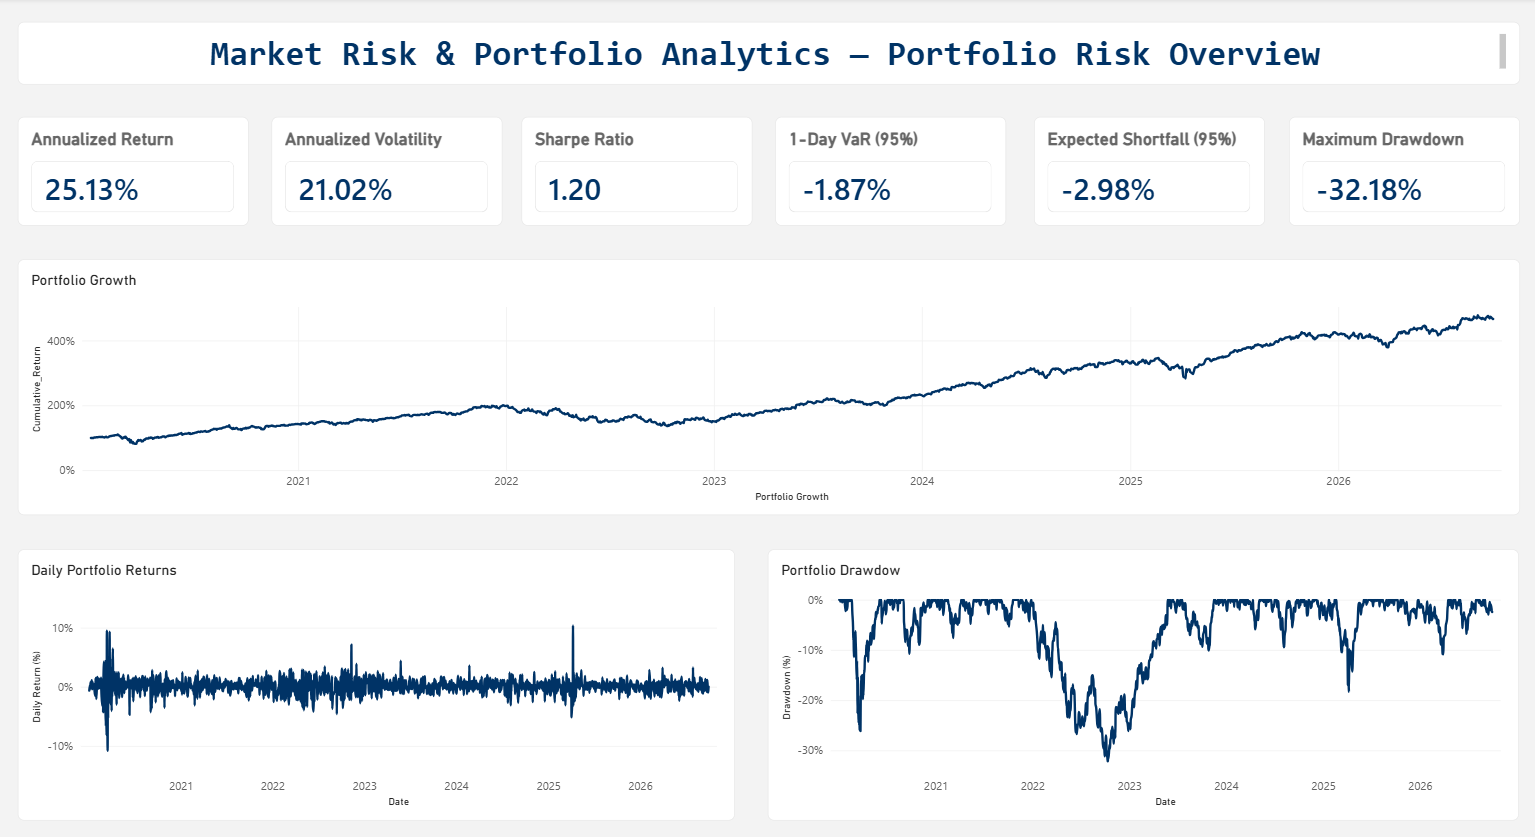

Layout of this report page (visuals, bound fields, positions):
{"tool":"powerbi","page":{"name":"Portfolio Risk Overview","canvas":[1920,1080],"ordinal":0},"visuals":[{"type":"cardVisual","title":"Annualized Return","fields":{"Data":["Sum(powerbi_risk_metrics.Value)"]},"box":[22.7,148.3,287.8,136],"z":0},{"type":"cardVisual","title":"Annualized Volatility","fields":{"Data":["Sum(powerbi_risk_metrics.Value)"]},"box":[340.1,148.3,287.8,136],"z":1000},{"type":"cardVisual","title":"Sharpe Ratio","fields":{"Data":["Sum(powerbi_risk_metrics.Value)"]},"box":[652.3,148.3,287.8,136],"z":2000},{"type":"cardVisual","title":"1-Day VaR (95%)","fields":{"Data":["Sum(powerbi_risk_metrics.Value)"]},"box":[968,148.3,287.8,136],"z":3000},{"type":"cardVisual","title":"Expected Shortfall (95%)","fields":{"Data":["Sum(powerbi_risk_metrics.Value)"]},"box":[1290.7,148.3,287.8,136],"z":4000},{"type":"cardVisual","title":"Maximum Drawdown","fields":{"Data":["Sum(powerbi_risk_metrics.Value)"]},"box":[1608.1,148.3,287.8,136],"z":5000},{"type":"lineChart","title":"Portfolio Growth","fields":{"Category":["powerbi_portfolio_returns.Date"],"Y":["Avg(powerbi_portfolio_returns.Cumulative_Return)"]},"box":[22.7,326.2,1873.3,319.2],"z":6000},{"type":"lineChart","title":"Daily Portfolio Returns","fields":{"Category":["powerbi_portfolio_returns.Date"],"Y":["Avg(powerbi_portfolio_returns.Portfolio_Return)"]},"box":[22.7,687.2,894.8,338.4],"z":7000},{"type":"lineChart","title":"Portfolio Drawdow","fields":{"Category":["powerbi_portfolio_returns.Date"],"Y":["Avg(powerbi_portfolio_returns.Drawdown)"]},"box":[959.3,687.2,936.6,338.4],"z":8000},{"type":"textbox","box":[22.7,29.7,1873.3,78.5],"z":9000}]}

Visuals, with their boxes on the page's 1920x1080 design canvas (x1, y1, x2, y2). These are canvas units, not pixel positions in the 1535x837 screenshot, which may show the page scaled, cropped or inside an application window:
"Annualized Return" cardVisual: [23, 148, 310, 284]
"Annualized Volatility" cardVisual: [340, 148, 628, 284]
"Sharpe Ratio" cardVisual: [652, 148, 940, 284]
"1-Day VaR (95%)" cardVisual: [968, 148, 1256, 284]
"Expected Shortfall (95%)" cardVisual: [1291, 148, 1578, 284]
"Maximum Drawdown" cardVisual: [1608, 148, 1896, 284]
"Portfolio Growth" lineChart: [23, 326, 1896, 645]
"Daily Portfolio Returns" lineChart: [23, 687, 918, 1026]
"Portfolio Drawdow" lineChart: [959, 687, 1896, 1026]
textbox: [23, 30, 1896, 108]
